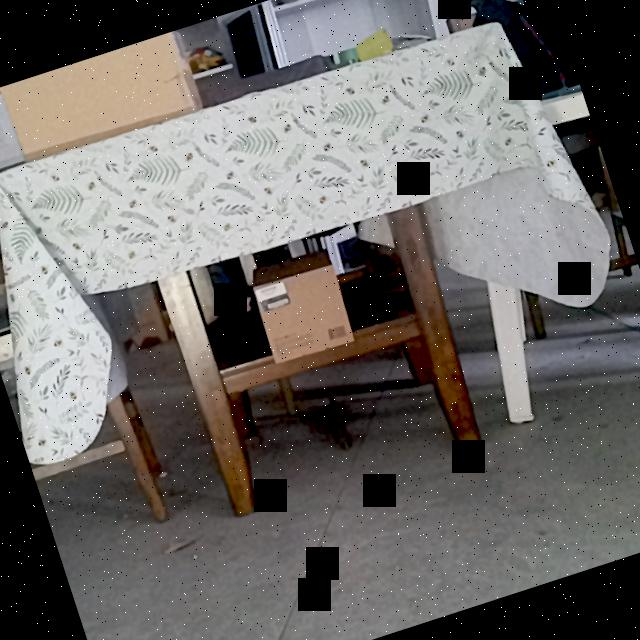box: (0, 32, 196, 165), (252, 264, 356, 366)
